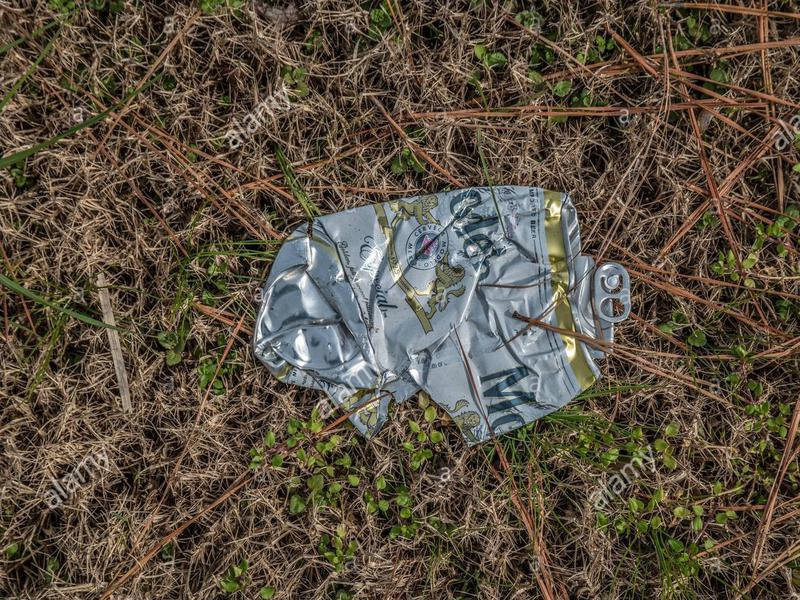can: (247, 182, 637, 450)
